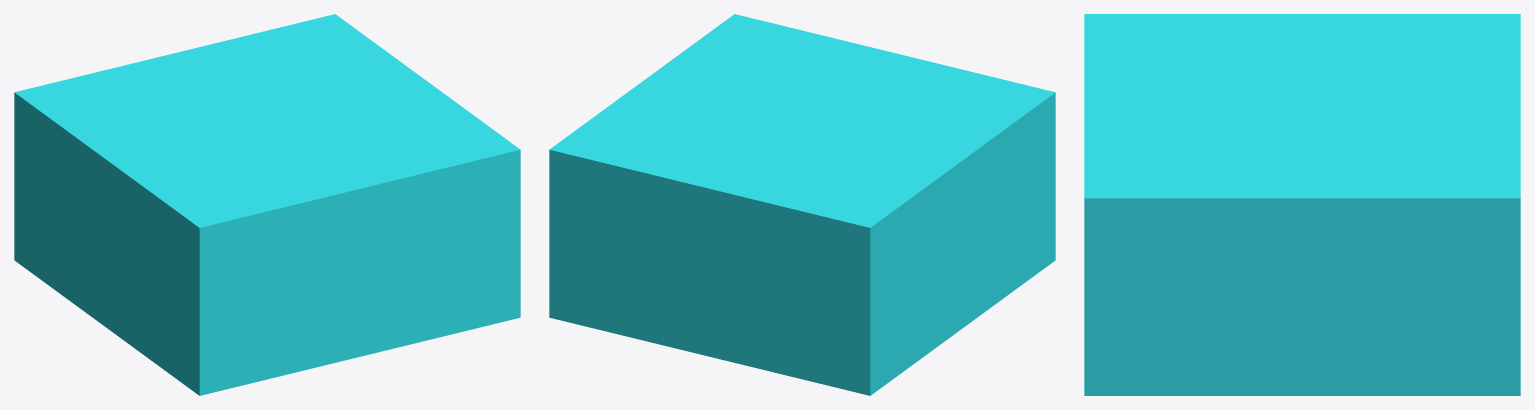
Rendered from WaterBlockFilled_5.fbx.
The picture shows the model from 3 angles, left to right: view 1: azimuth 30°, elevation 25°; view 2: azimuth 150°, elevation 25°; view 3: azimuth 270°, elevation 25°; orthographic projection. The views are drawn at different scales.
Visible parts, largest first — view 1: WaterBlockFilled_5; view 2: WaterBlockFilled_5; view 3: WaterBlockFilled_5.
Boxes of the visible parts, bbox=[...] form: WaterBlockFilled_5: bbox=[14, 14, 520, 395]; WaterBlockFilled_5: bbox=[549, 14, 1055, 395]; WaterBlockFilled_5: bbox=[1084, 14, 1520, 395].
Size of the model in its own units: 1 by 0.5 by 1.
Materials: 1 (1 with a texture image).
